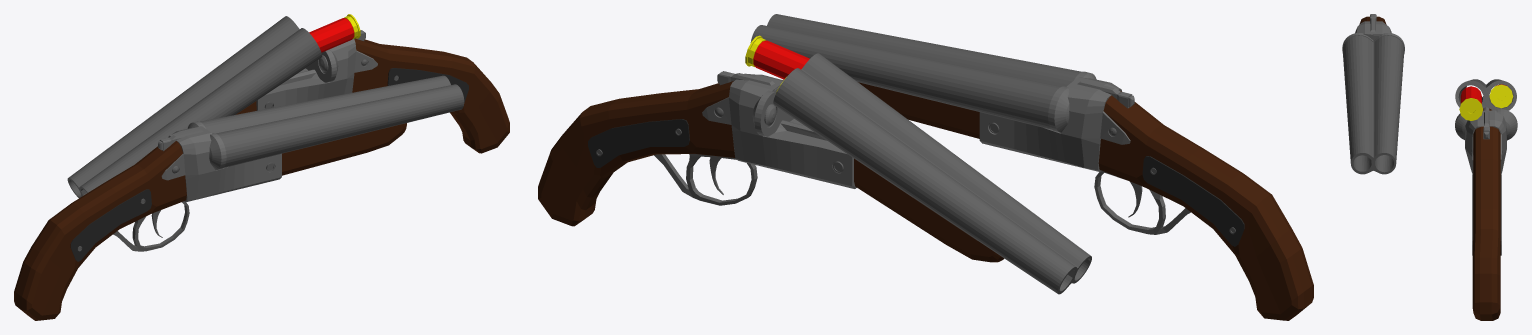
File: sawoff doublebarrel.fbx
3 views of the same model, side by side, from view 1: azimuth 30°, elevation 25°; view 2: azimuth 150°, elevation 25°; view 3: azimuth 270°, elevation 25° (orthographic). The views are drawn at different scales.
Parts seen in each view (by area): view 1: Cube, Cube.001; view 2: Cube.001, Cube; view 3: Cube.001, Cube.
Boxes of the visible parts, box(x1,y1,x2,y2) form: Cube: box(14, 75, 464, 320); Cube.001: box(67, 14, 509, 198); Cube.001: box(538, 35, 1091, 294); Cube: box(750, 14, 1313, 320); Cube.001: box(1455, 79, 1517, 320); Cube: box(1342, 14, 1404, 174).
Bounding box in the file's own units: 778 × 237 × 237.
